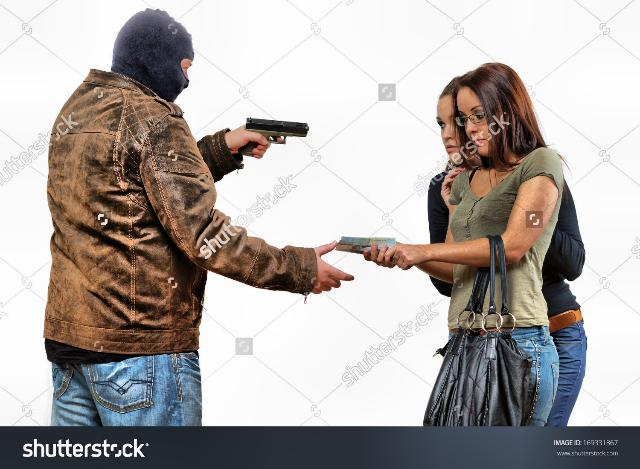pistol: (237, 117, 313, 157)
